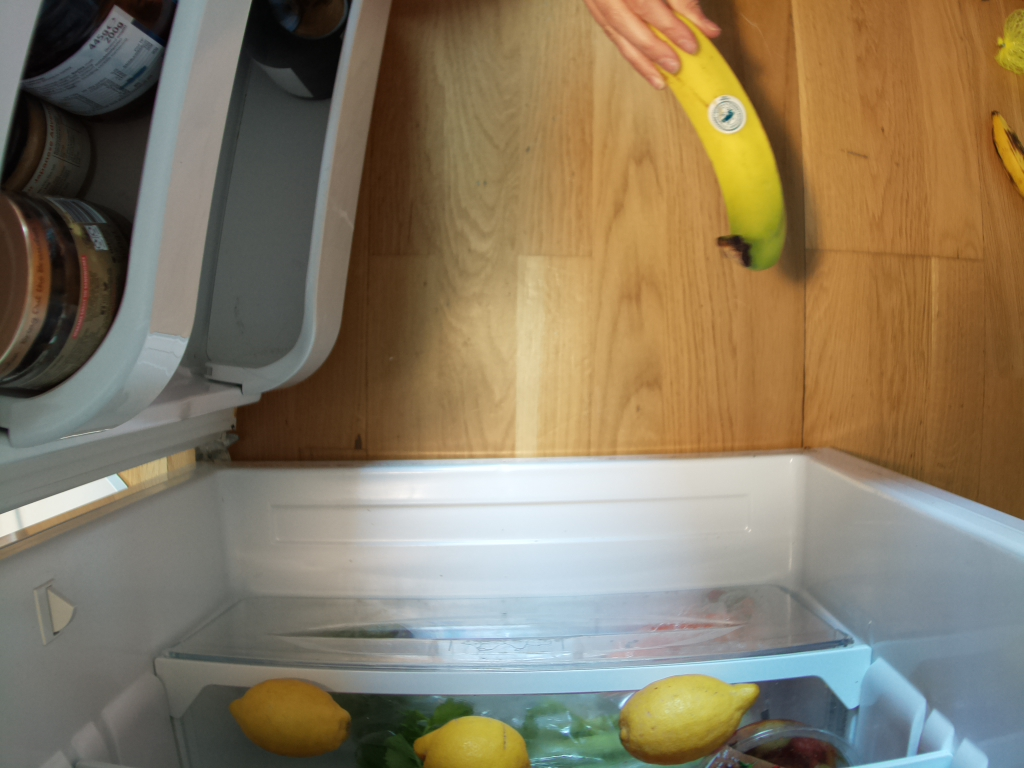banana-unripe: (645, 3, 787, 268)
